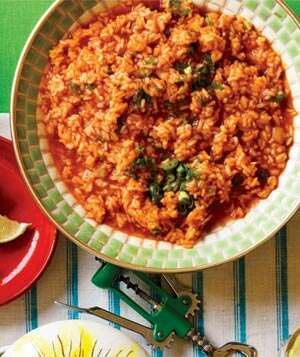Nasi Merah: (34, 11, 295, 275)
